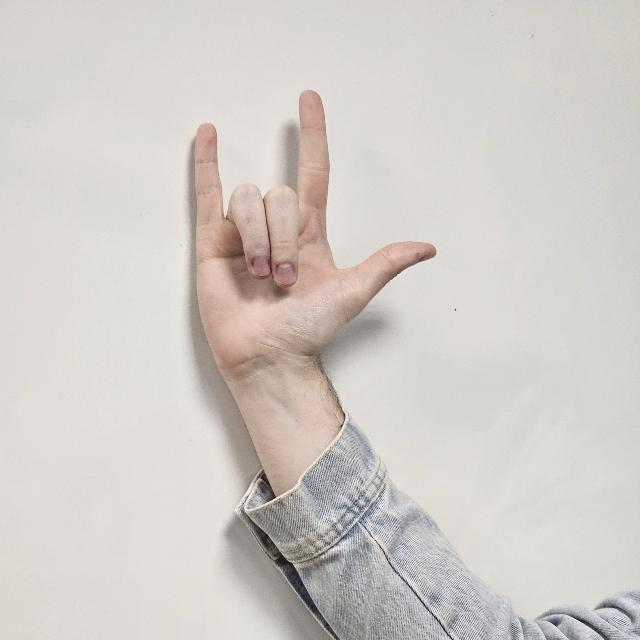Cima: (190, 91, 434, 391)
